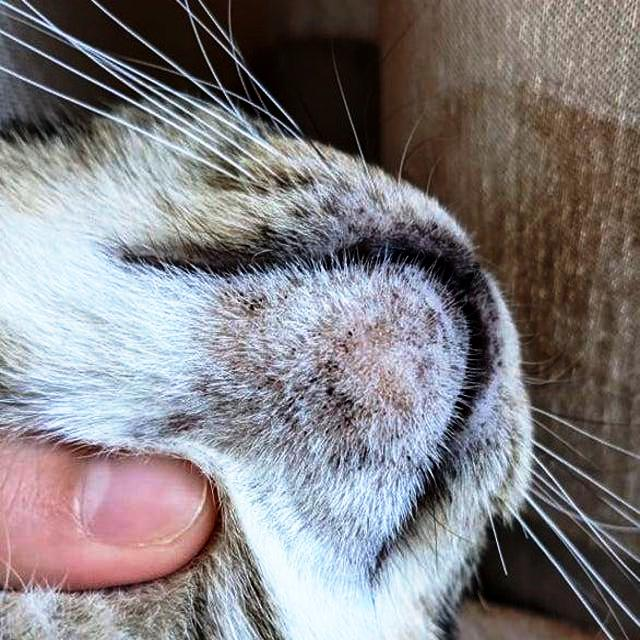acne: (152, 278, 404, 471)
